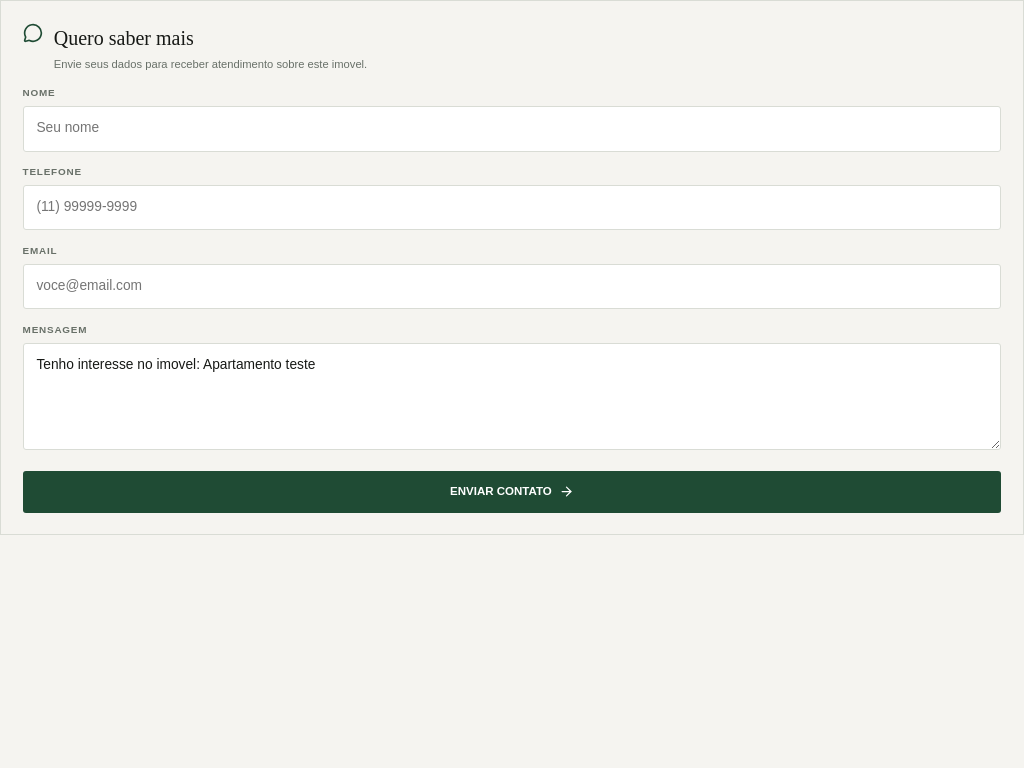
Test: LeadForm › valida campos obrigatorios antes de enviar
Click the button "Enviar contato".
click(512, 492)  # box x1=23 y1=471 x2=1001 y2=513
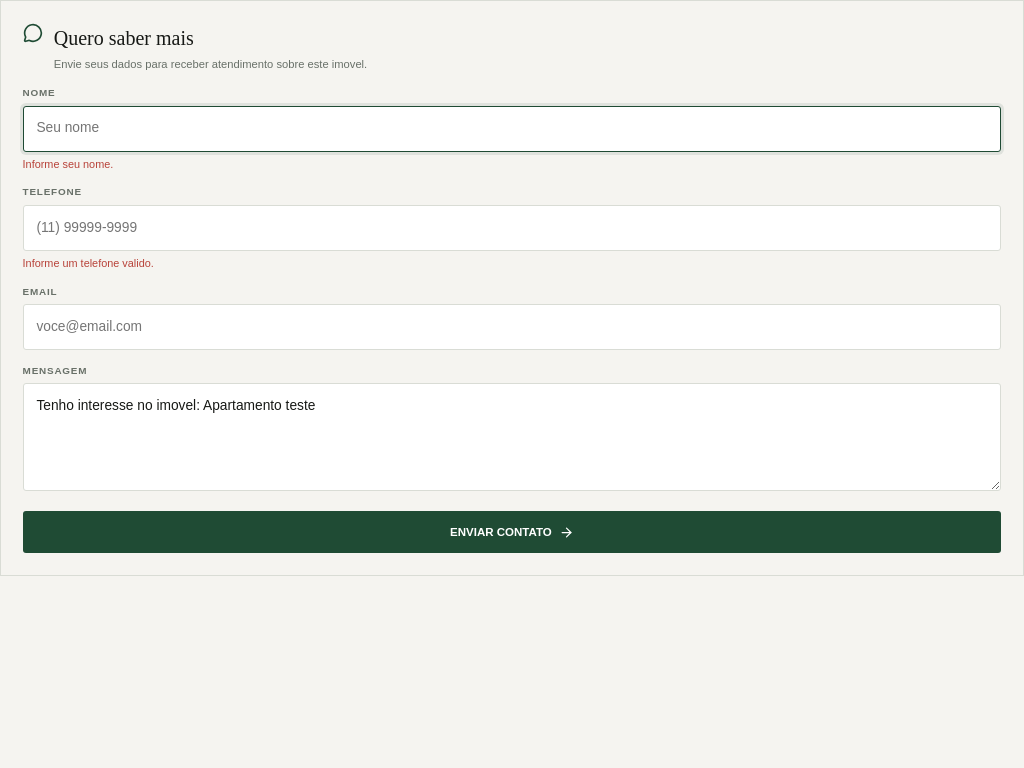
Expected: the text "Informe seu nome." is shown, x1=23 y1=158 x2=113 y2=170
Expected: the text "Informe um telefone valido." is shown, x1=23 y1=257 x2=154 y2=269
